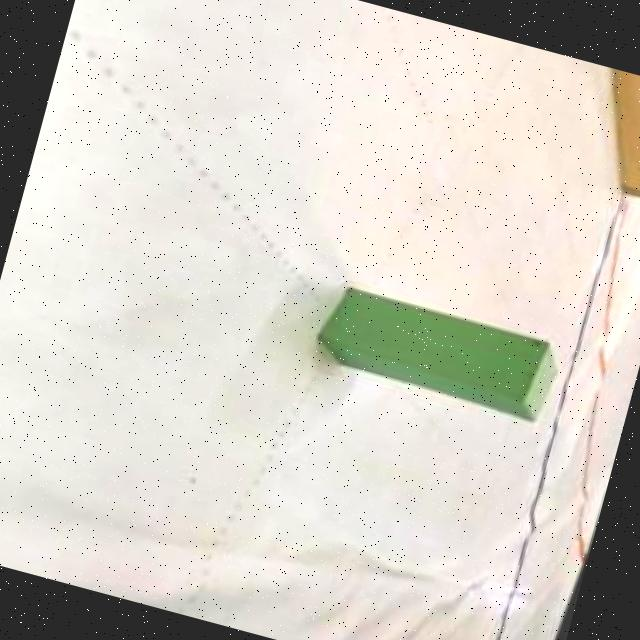greenbox: (308, 280, 570, 428)
